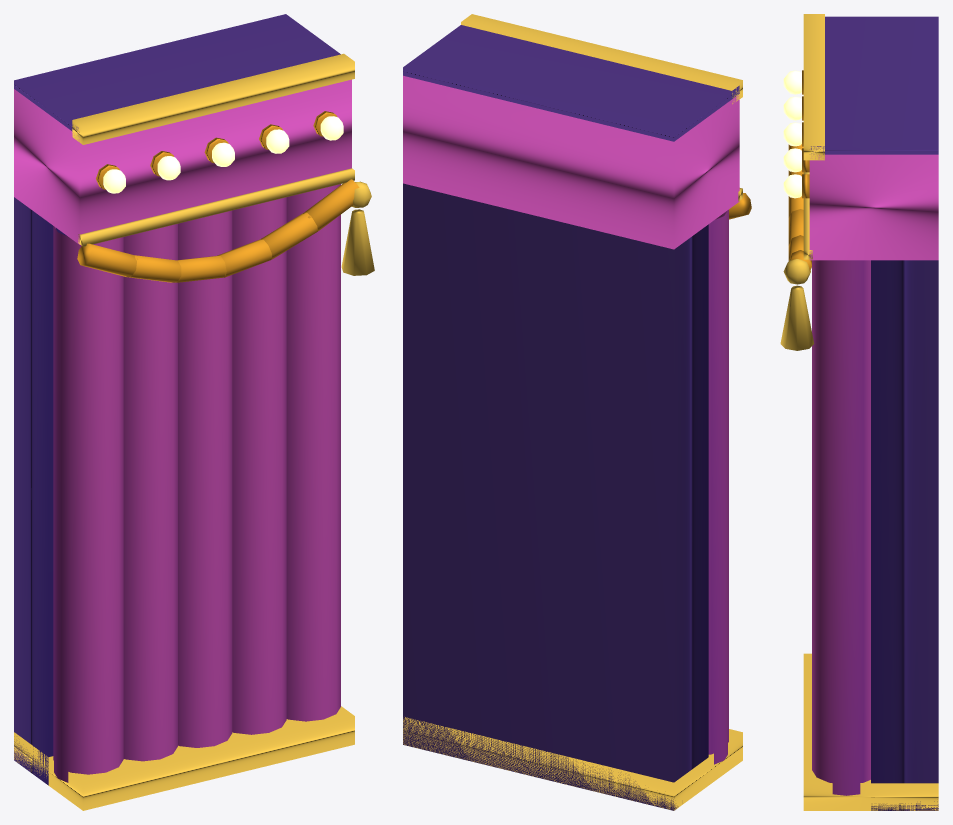
File: wall_stage.glb
The picture shows the model from 3 angles, left to right: view 1: azimuth 30°, elevation 25°; view 2: azimuth 150°, elevation 25°; view 3: azimuth 270°, elevation 25°; orthographic projection. The views are drawn at different scales.
Visible parts, largest first — view 1: Curtain, Trim; view 2: Curtain, Trim; view 3: Curtain, Trim.
Boxes of the visible parts, bbox=[...] form: Curtain: bbox=[14, 184, 340, 785]; Trim: bbox=[14, 14, 374, 810]; Curtain: bbox=[403, 183, 728, 810]; Trim: bbox=[403, 14, 751, 810]; Curtain: bbox=[812, 260, 938, 810]; Trim: bbox=[780, 14, 938, 810].
Size of the model in its own units: 1.07 by 2.4 by 0.515.
